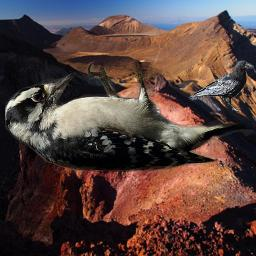Crow: (189, 60, 254, 111)
Woodpecker: (5, 62, 253, 172)
